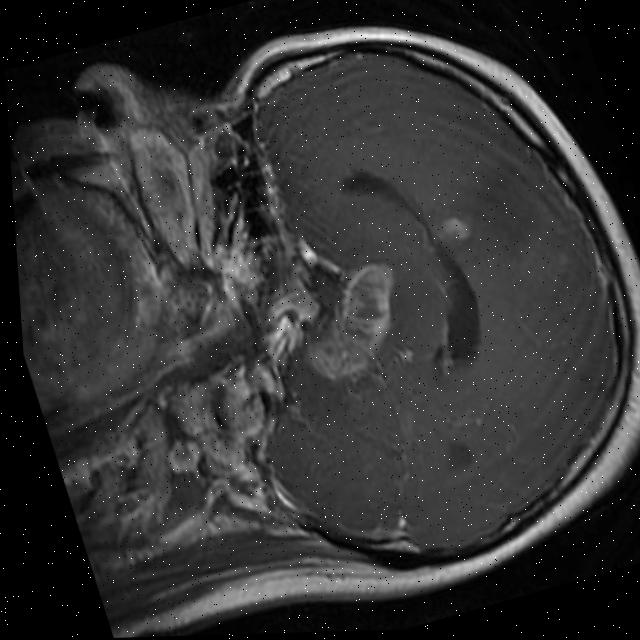Glioma: (280, 256, 425, 390)
